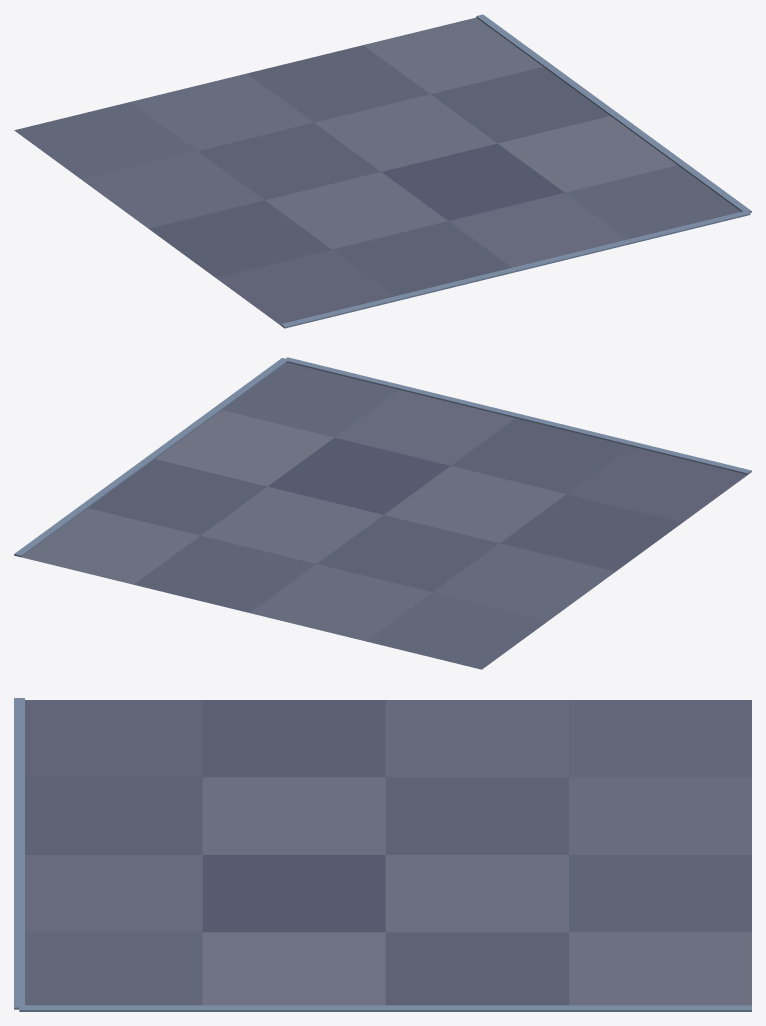
The model's file is gloam_floor.glb.
The picture shows the model from 3 angles, top to bottom: view 1: azimuth 30°, elevation 25°; view 2: azimuth 150°, elevation 25°; view 3: azimuth 270°, elevation 25°; orthographic projection. The views are drawn at different scales.
Parts seen in each view (by area): view 1: gloam_floor; view 2: gloam_floor; view 3: gloam_floor.
Part boxes in pixels (x1,y1,x2,y2): gloam_floor: (14,14,751,328); gloam_floor: (14,357,751,669); gloam_floor: (14,698,751,1011).
Bounding box in the file's own units: 2.01 × 0.006 × 2.01.
